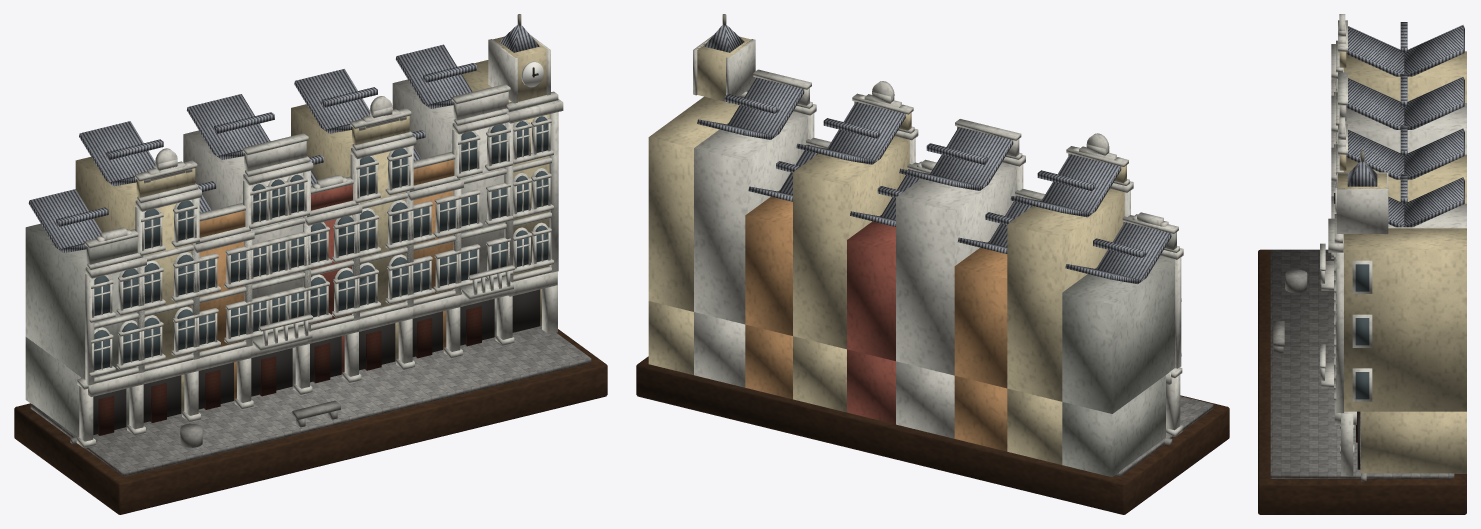
File: chikan.glb
3 views of the same model, side by side, from view 1: azimuth 30°, elevation 25°; view 2: azimuth 150°, elevation 25°; view 3: azimuth 270°, elevation 25° (orthographic).
Visible parts, largest first — view 1: Chikan_Old_Town; view 2: Chikan_Old_Town; view 3: Chikan_Old_Town.
Part boxes in pixels (bbox=[...]): Chikan_Old_Town: bbox=[14, 14, 607, 514]; Chikan_Old_Town: bbox=[636, 14, 1229, 514]; Chikan_Old_Town: bbox=[1258, 14, 1466, 514].
Bounding box in the file's own units: 0.8 × 0.55 × 0.3.
Materials: 14 (10 with a texture image).
